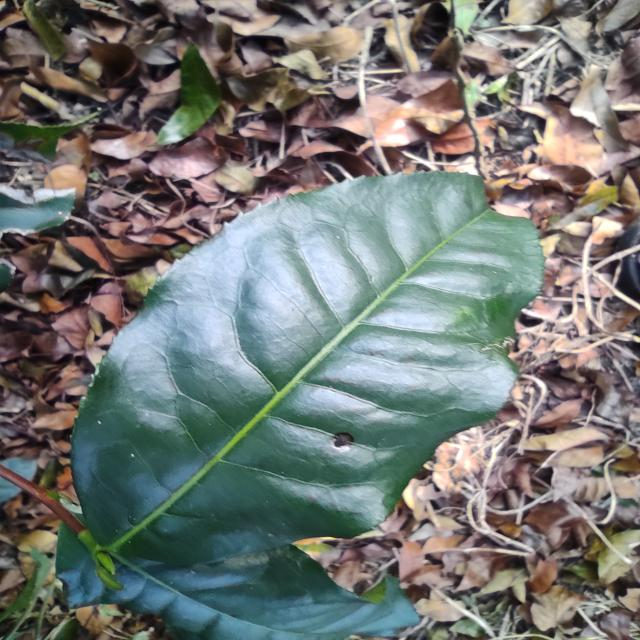Category D(7+ days, Not for Tea): (48, 132, 551, 592)
